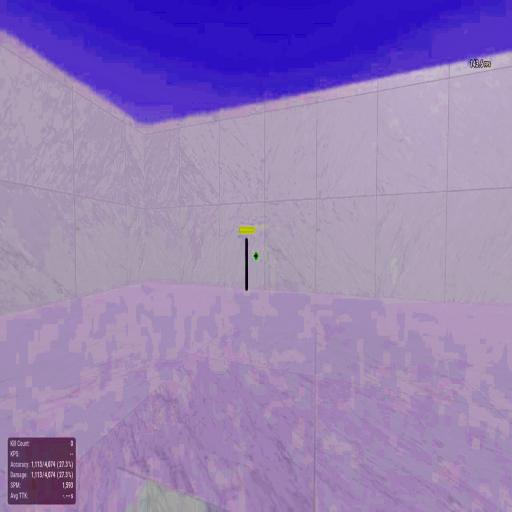Crosshair: (254, 252, 258, 261)
Target: (245, 238, 248, 291)
